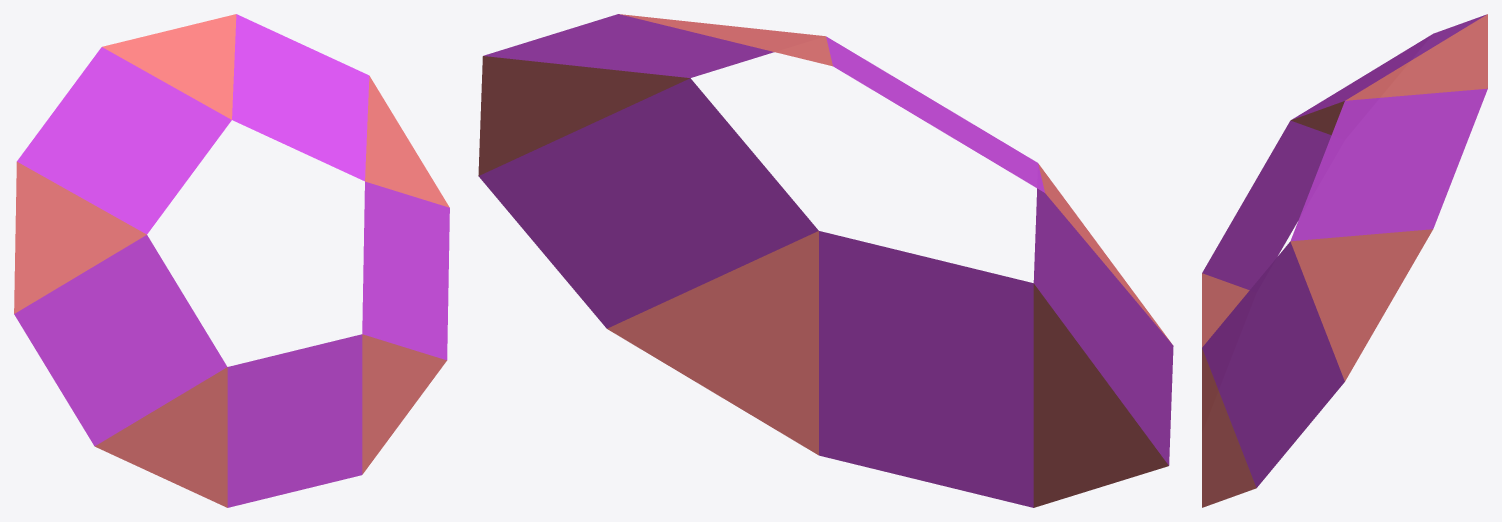
File: PentagonalCupolaA.obj
3 views of the same model, side by side, from view 1: azimuth 30°, elevation 25°; view 2: azimuth 150°, elevation 25°; view 3: azimuth 270°, elevation 25° (orthographic). The views are drawn at different scales.
Size of the model in its own units: 3.24 by 2.62 by 1.62.
